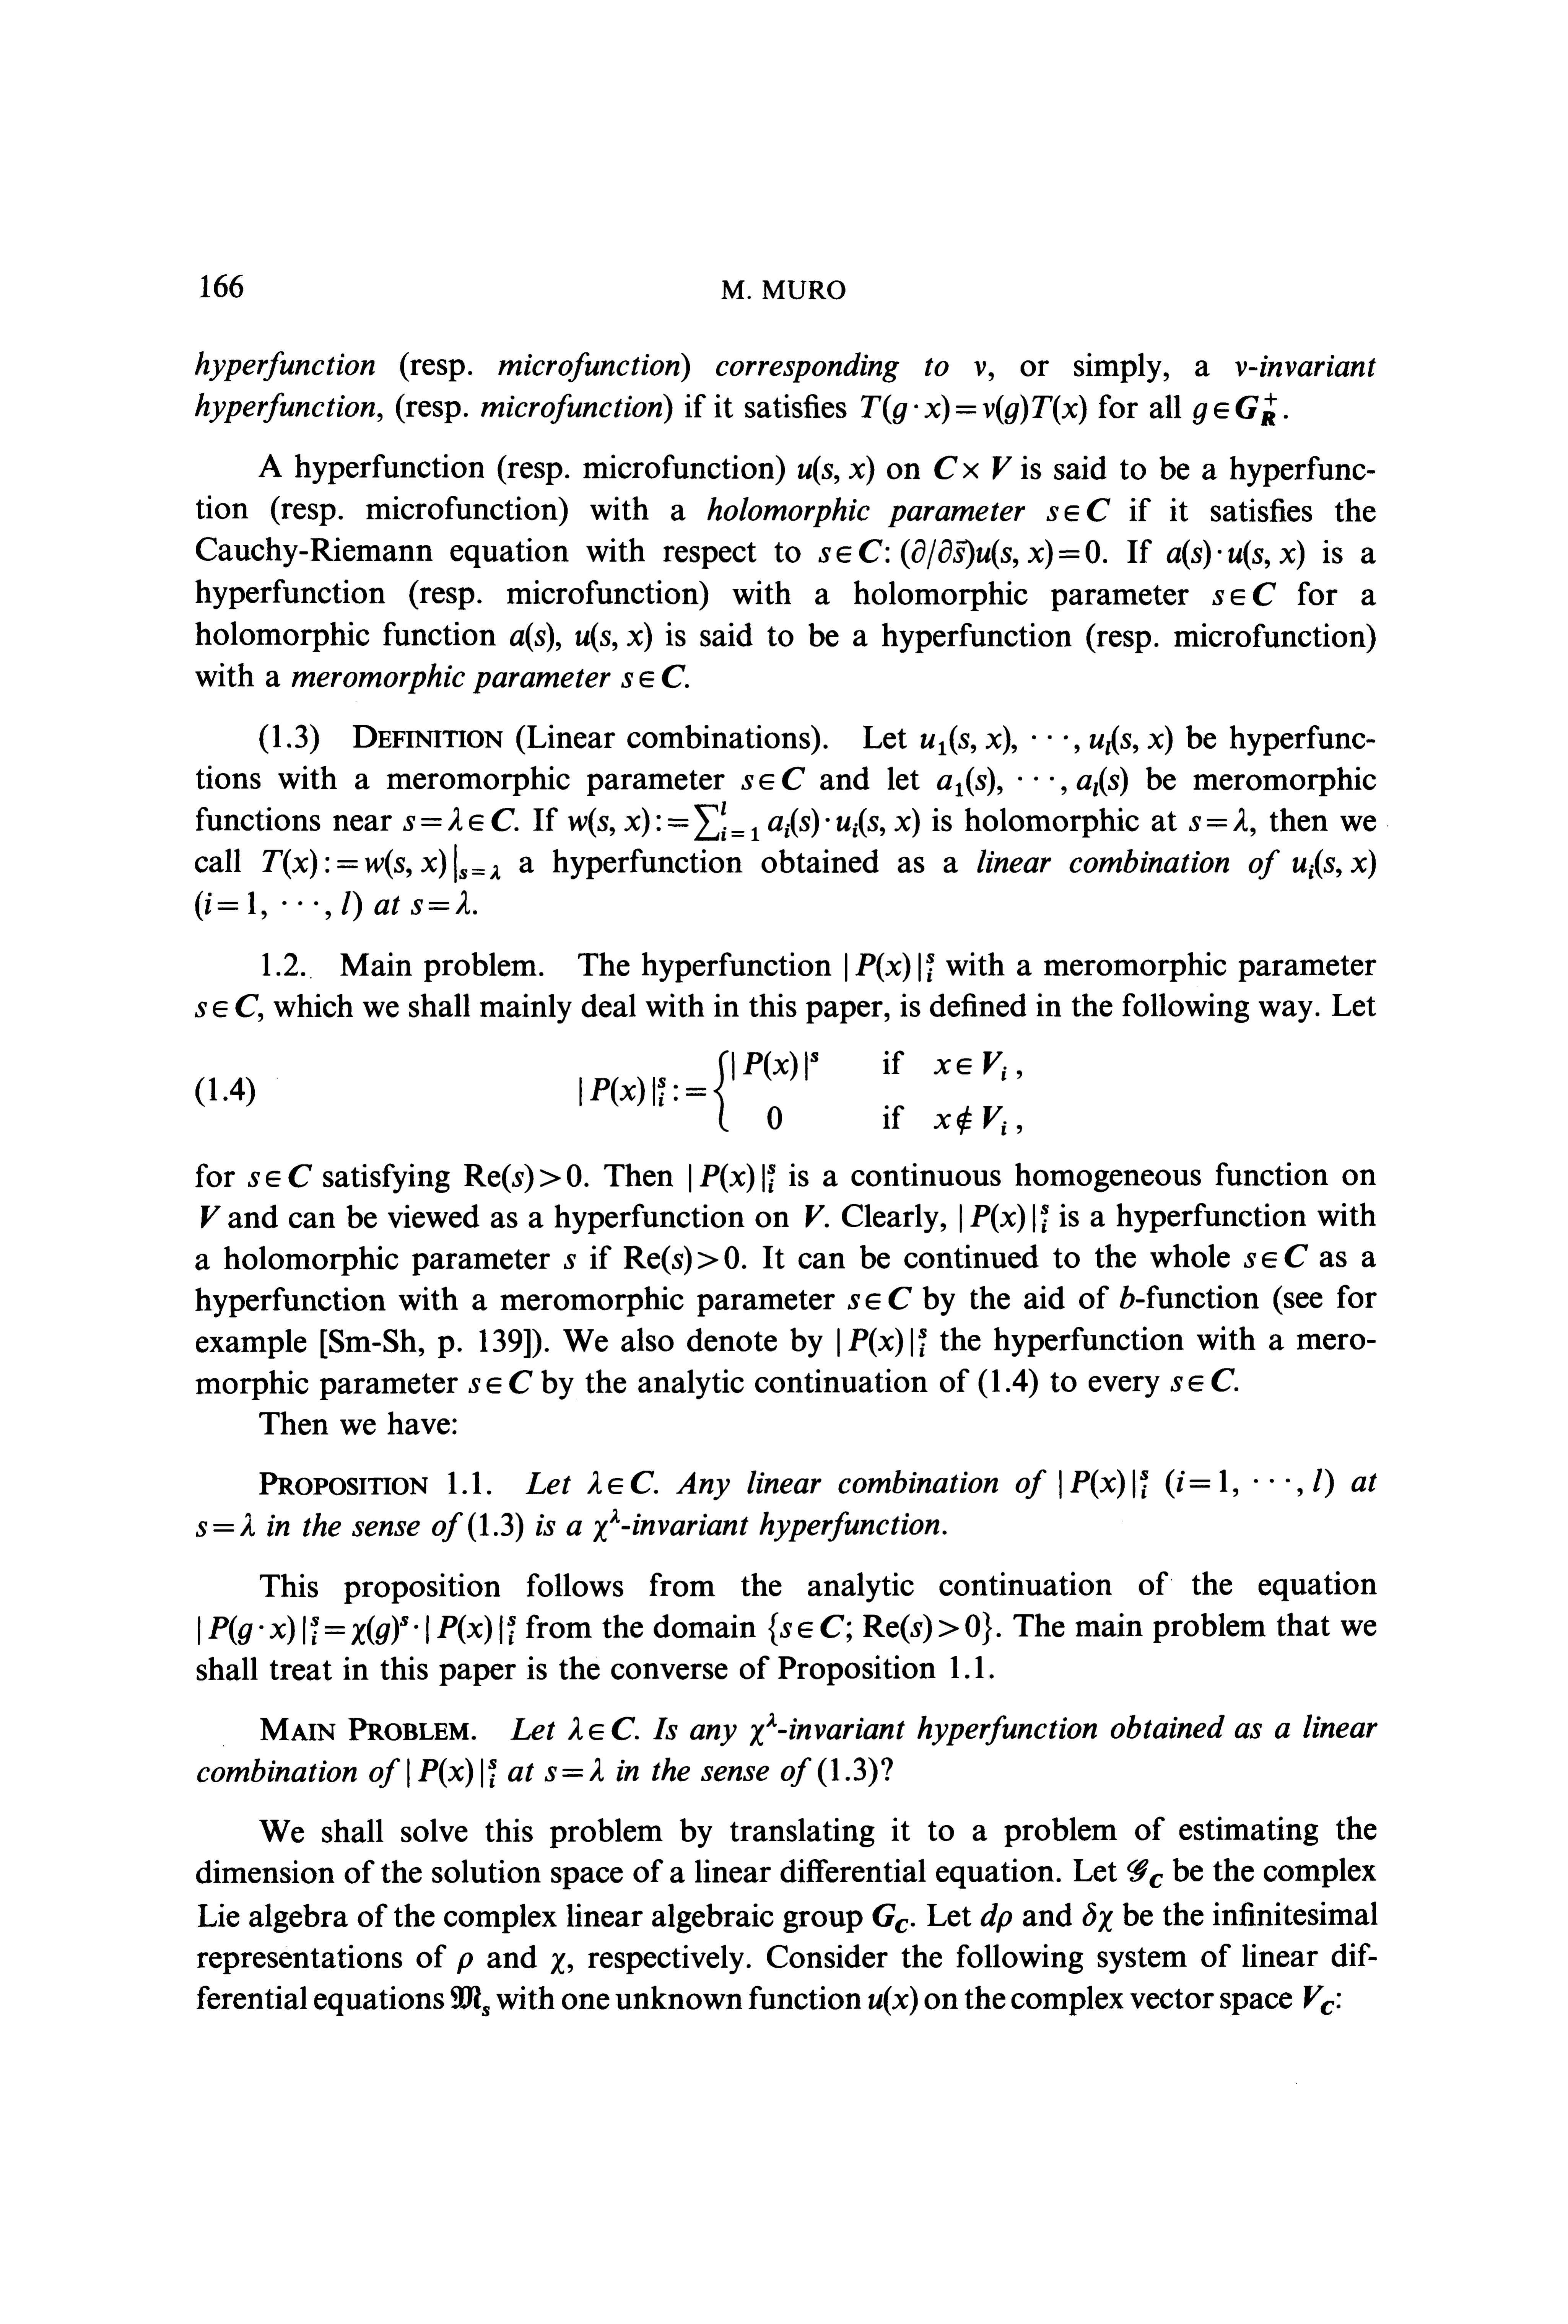maths: (579, 1050, 1022, 1136), (569, 802, 920, 840), (262, 843, 500, 882), (208, 1615, 514, 1645), (819, 539, 1101, 569), (920, 724, 1172, 754), (768, 1612, 992, 1645), (861, 394, 1087, 423), (936, 767, 1127, 796), (205, 891, 350, 919), (1176, 1468, 1321, 1496), (1167, 539, 1304, 569), (464, 1164, 581, 1193), (623, 1246, 738, 1274), (1193, 392, 1277, 425), (402, 807, 514, 831), (845, 952, 934, 982), (961, 1204, 1048, 1234), (689, 1164, 775, 1193), (1059, 1470, 1148, 1498), (838, 1328, 926, 1356), (1293, 849, 1375, 878), (418, 1757, 495, 1788), (798, 455, 875, 485), (576, 621, 651, 651), (934, 455, 1011, 480), (588, 1472, 658, 1494), (569, 1717, 639, 1739), (248, 1164, 311, 1188), (194, 994, 259, 1017), (847, 1286, 912, 1309), (1188, 807, 1248, 831), (544, 1757, 604, 1781), (868, 1986, 917, 2016), (1046, 499, 1109, 521), (1213, 583, 1276, 605), (621, 665, 684, 688), (742, 767, 805, 789), (1244, 1244, 1307, 1267), (469, 1370, 532, 1393), (1171, 1368, 1234, 1391), (411, 891, 469, 914), (196, 1514, 254, 1537), (873, 1904, 915, 1934), (509, 623, 553, 651), (593, 1508, 630, 1542), (749, 1713, 787, 1745), (450, 1986, 490, 2016), (1127, 1859, 1162, 1888), (1083, 1902, 1113, 1932), (982, 1904, 1011, 1932), (1304, 1986, 1333, 2014), (549, 1953, 572, 1974), (201, 1206, 220, 1228), (805, 1206, 824, 1227), (457, 1953, 472, 1974), (1120, 1286, 1134, 1309), (563, 1255, 576, 1269), (975, 360, 985, 376), (1235, 360, 1246, 376)
